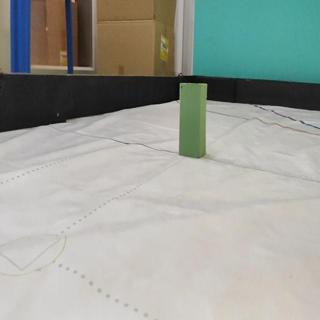greenbox: (178, 81, 208, 158)
